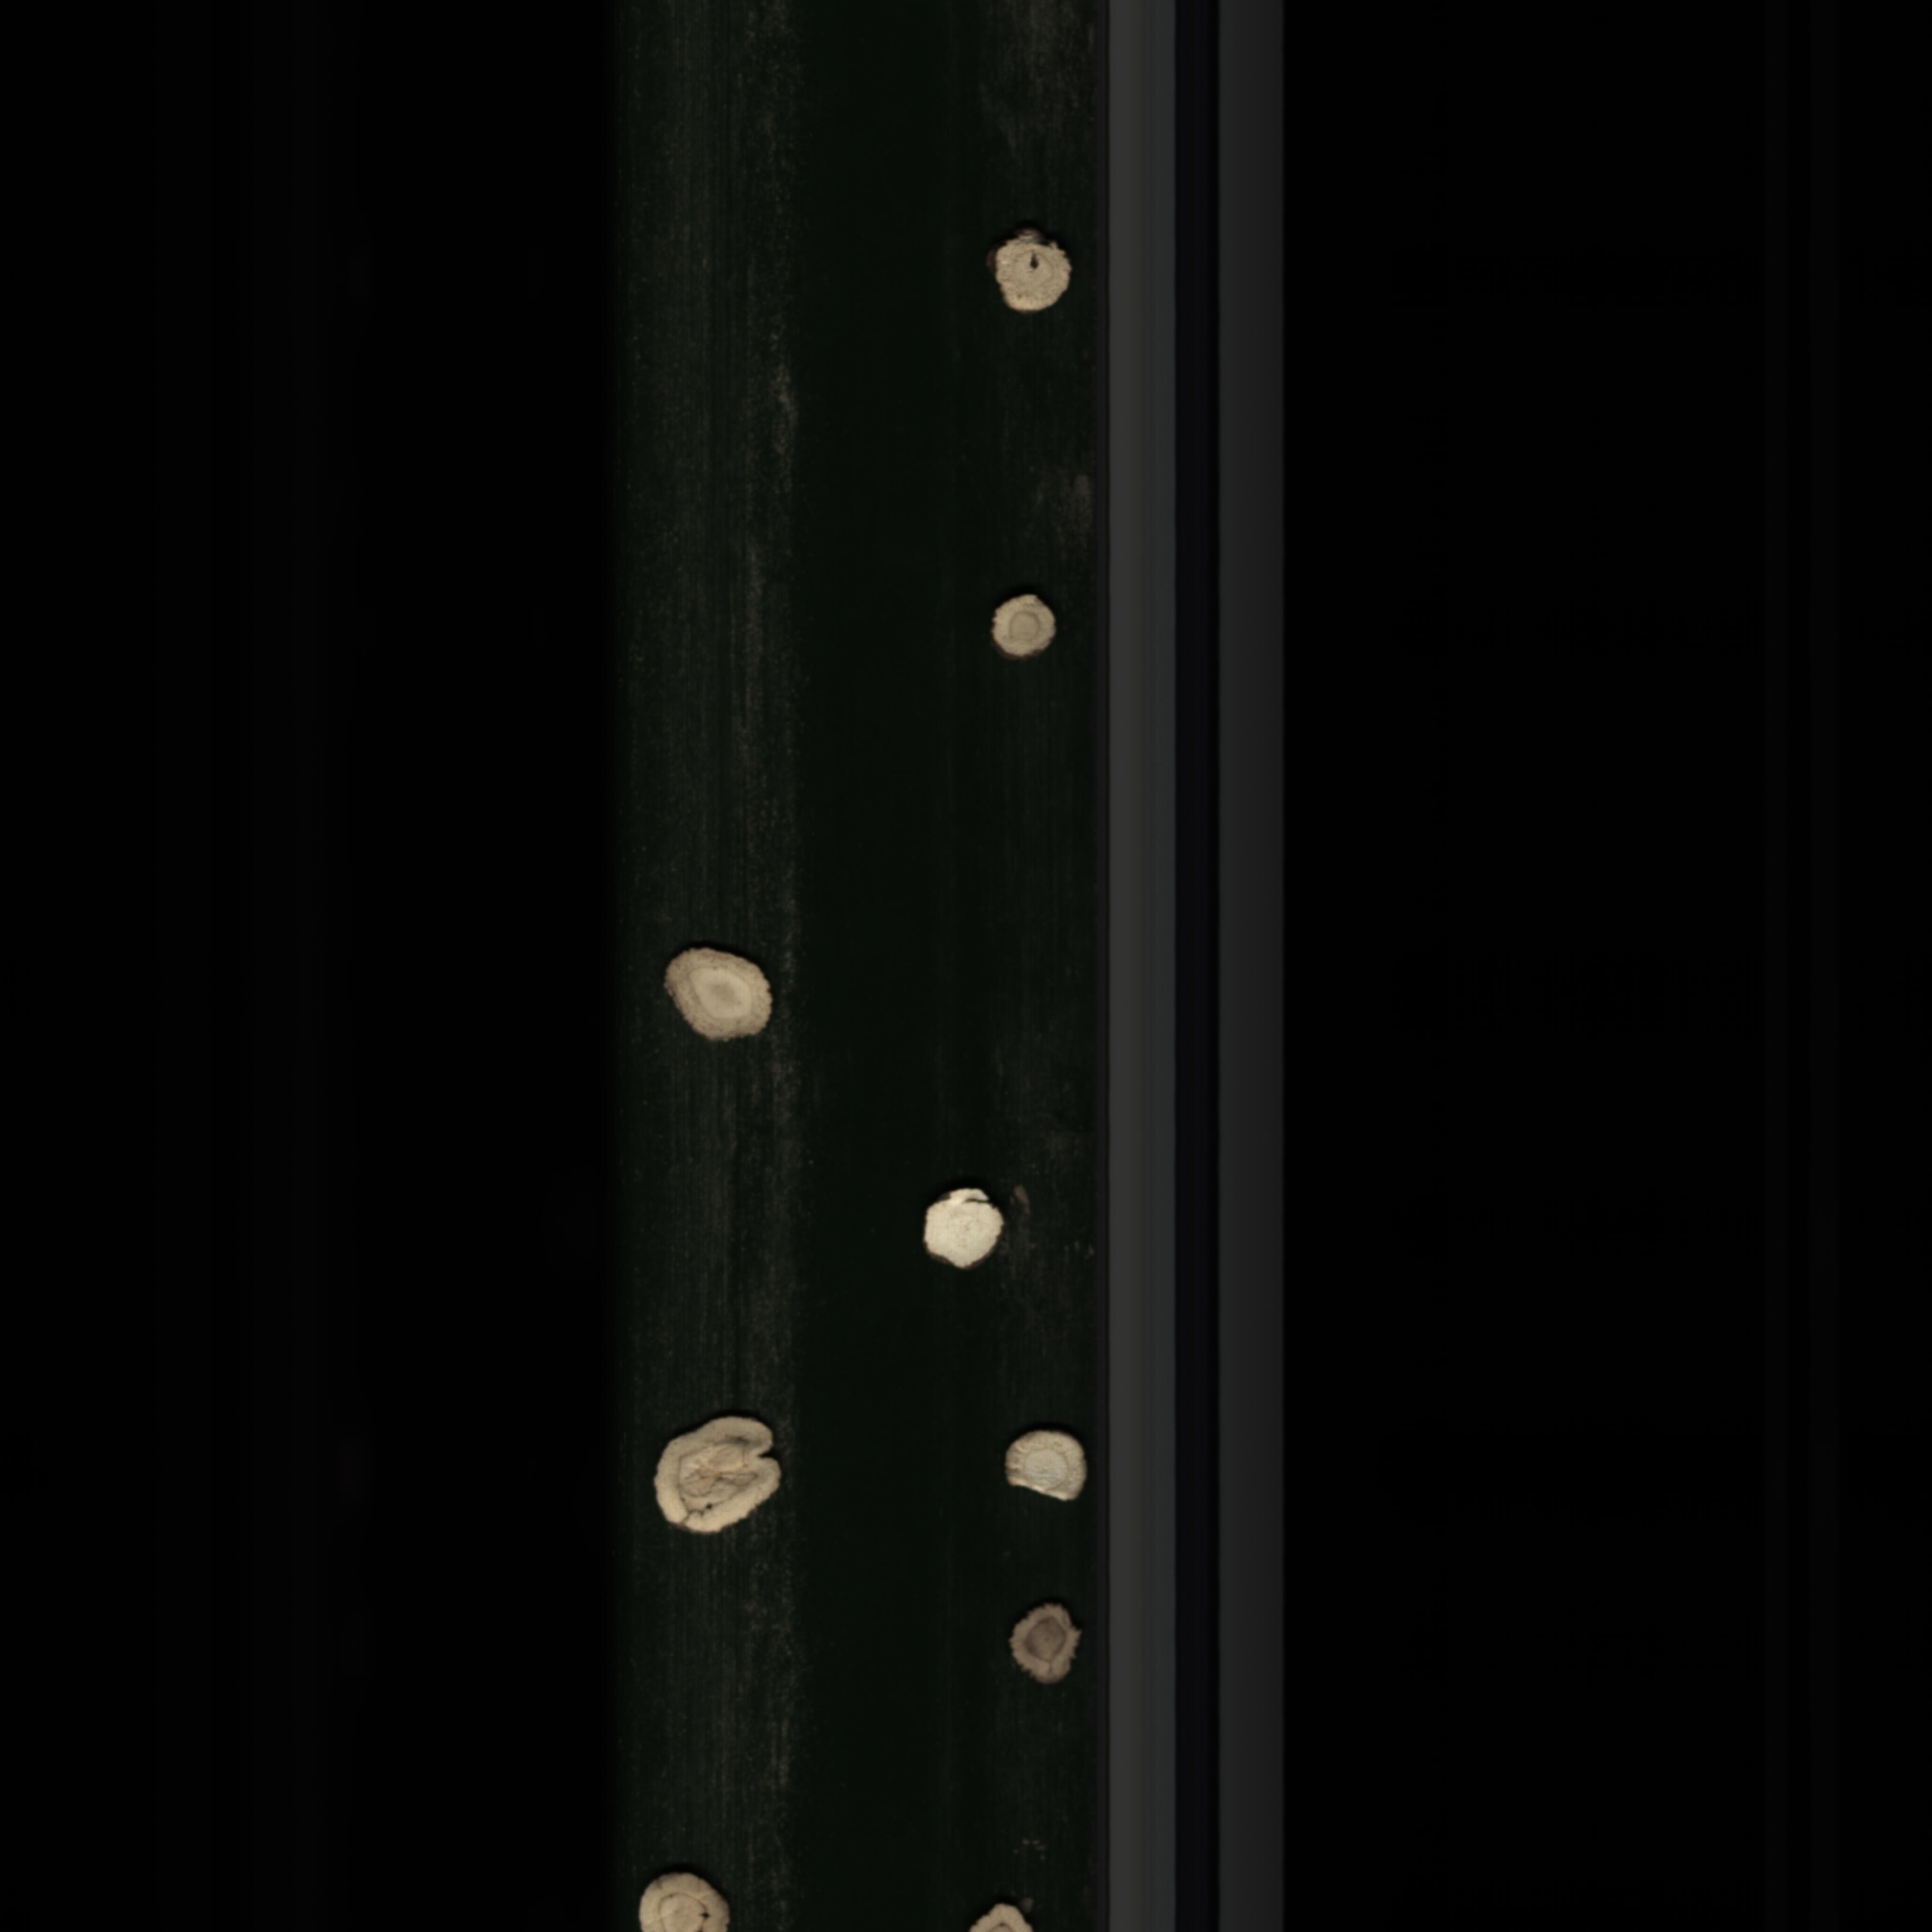debris: (985, 1419, 1097, 1523)
distortion: (644, 1407, 793, 1557)
hole: (987, 221, 1081, 322)
moldy: (1001, 1592, 1088, 1693)
